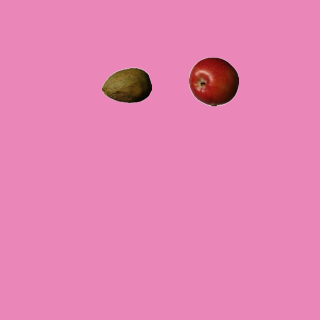Apple Braeburn: (188, 56, 238, 106)
Papaya: (101, 60, 151, 110)
